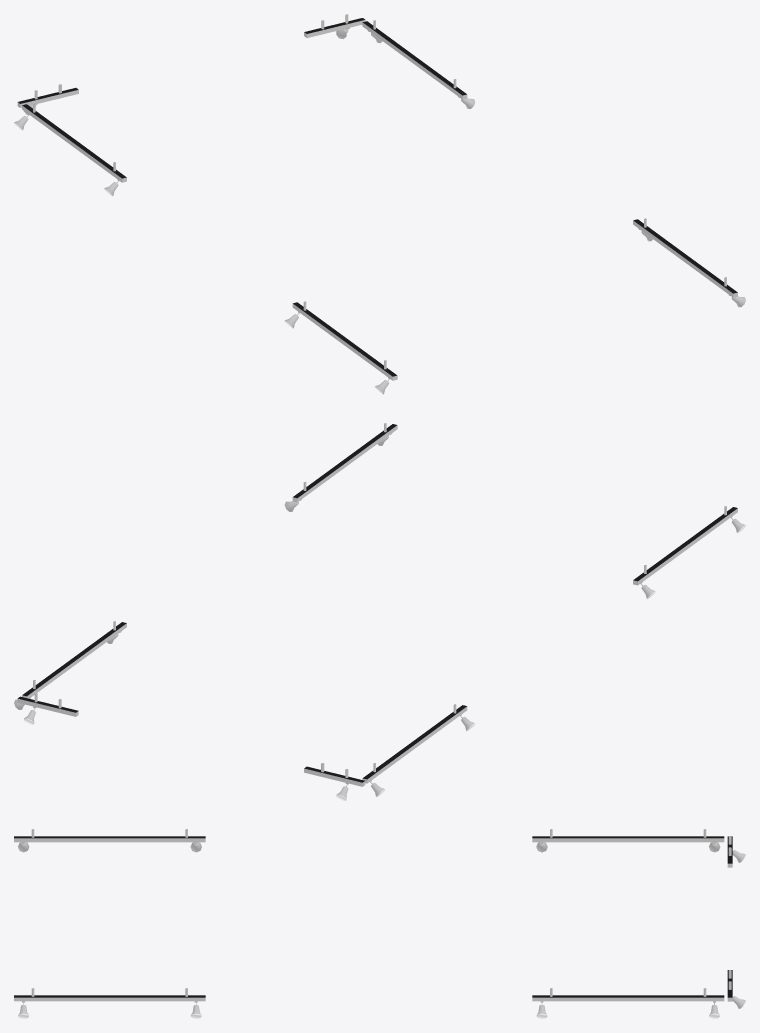
Rendered from main-light.glb.
3 views of the same model, one above another, from view 1: azimuth 30°, elevation 25°; view 2: azimuth 150°, elevation 25°; view 3: azimuth 270°, elevation 25° (orthographic). The views are drawn at different scales.
Visible parts, largest first — view 1: Lobby Track Lighting; view 2: Lobby Track Lighting; view 3: Lobby Track Lighting.
Boxes of the visible parts, <box> form: Lobby Track Lighting: <box>14,14,745,394</box>; Lobby Track Lighting: <box>14,423,745,800</box>; Lobby Track Lighting: <box>14,829,745,1018</box>.
Size of the model in its own units: 7.09 by 0.5072 by 12.71.
Materials: 1 (1 with a texture image).
